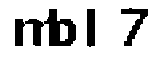7: (114, 5, 151, 51)
b: (47, 7, 78, 50)
l: (83, 7, 101, 52)
m: (8, 15, 53, 52)
